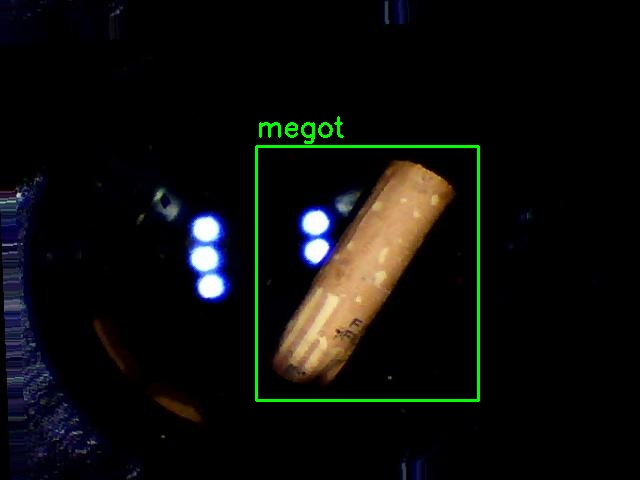megot: (256, 146, 478, 400)
